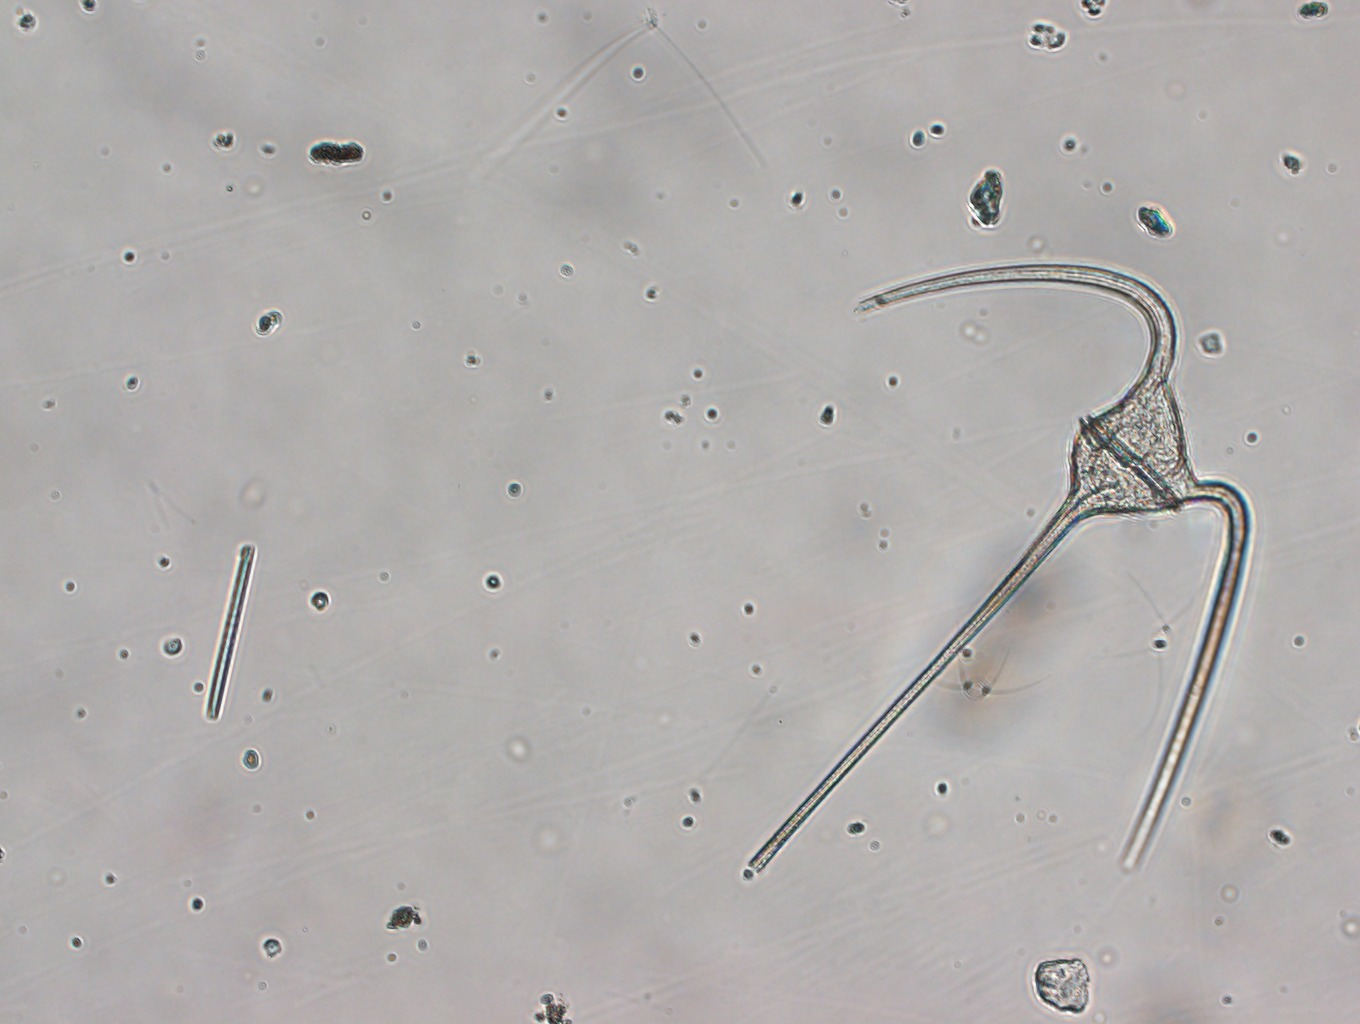ceratium trichoceros: (730, 255, 1258, 878)
